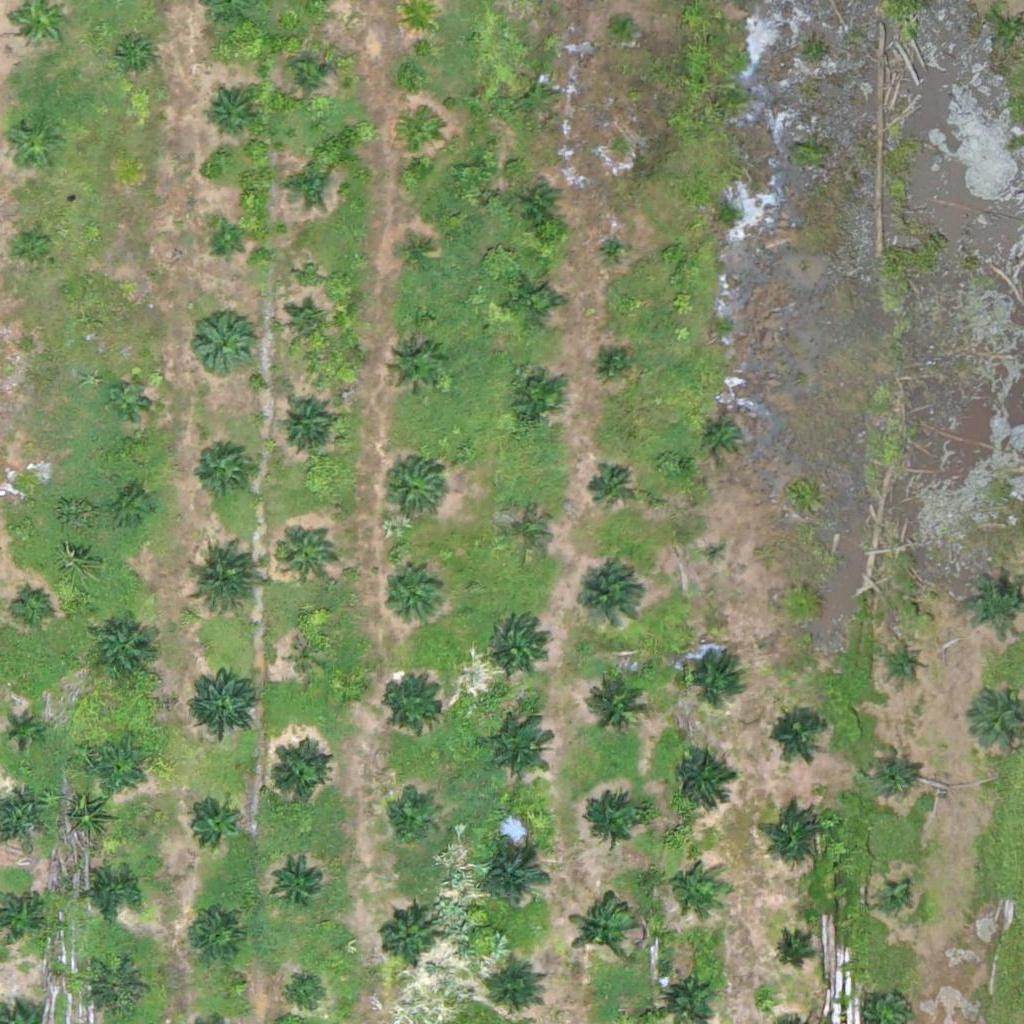Kelapa_Sawit: (576, 792, 651, 868), (479, 711, 554, 787), (572, 564, 647, 640), (580, 666, 655, 742), (568, 894, 643, 970), (184, 545, 259, 620), (186, 659, 261, 734), (477, 843, 552, 918), (190, 309, 253, 372), (1, 113, 64, 176), (681, 641, 744, 704), (266, 743, 329, 806), (271, 850, 334, 913), (377, 909, 440, 972), (89, 619, 151, 682), (191, 436, 253, 499), (767, 803, 829, 866), (274, 393, 336, 456), (766, 703, 828, 766), (384, 673, 446, 736), (670, 749, 733, 811), (487, 615, 549, 678), (384, 337, 446, 400), (504, 370, 566, 433), (382, 457, 444, 520), (386, 568, 448, 631), (276, 522, 338, 585), (85, 959, 147, 1022), (503, 271, 565, 334), (91, 746, 141, 797), (186, 797, 236, 848), (202, 89, 252, 140), (279, 159, 329, 210), (190, 910, 240, 961), (283, 968, 333, 1019), (585, 463, 635, 514), (86, 868, 136, 918), (666, 858, 716, 908), (385, 791, 435, 841), (869, 747, 919, 797), (500, 508, 550, 558), (699, 411, 749, 461), (280, 302, 330, 352), (284, 53, 334, 103), (886, 645, 924, 683), (876, 883, 914, 921), (783, 585, 821, 623), (597, 233, 635, 271), (521, 185, 559, 223), (401, 118, 439, 156), (400, 238, 438, 276), (517, 76, 555, 114), (116, 39, 154, 77), (10, 474, 48, 512), (115, 490, 152, 528), (771, 934, 808, 972), (290, 639, 327, 677), (1, 712, 38, 750), (15, 588, 53, 625), (207, 222, 244, 260), (15, 228, 52, 265), (110, 378, 147, 415), (599, 349, 624, 375), (611, 10, 636, 35), (703, 539, 728, 564)
